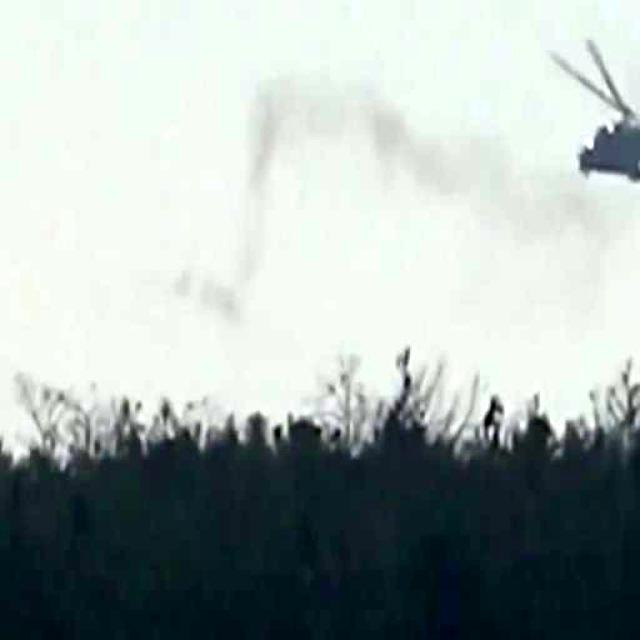drone: (549, 19, 640, 206)
